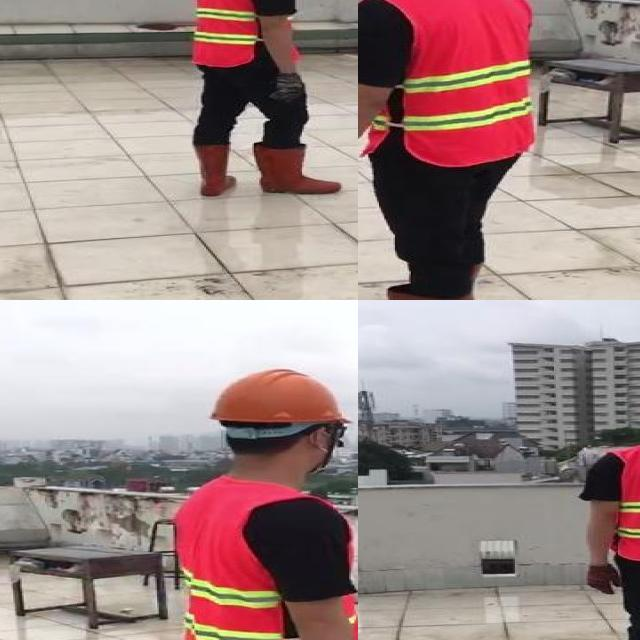boots: (252, 144, 346, 195), (192, 141, 234, 196)
hand_glove: (584, 564, 622, 594), (270, 73, 304, 102)
head_helmet: (197, 363, 352, 428)
person: (145, 358, 358, 640), (358, 0, 540, 300), (177, 0, 348, 198), (575, 379, 640, 640)
vest: (358, 0, 539, 166), (173, 476, 295, 640), (195, 0, 264, 67), (340, 501, 358, 640)
